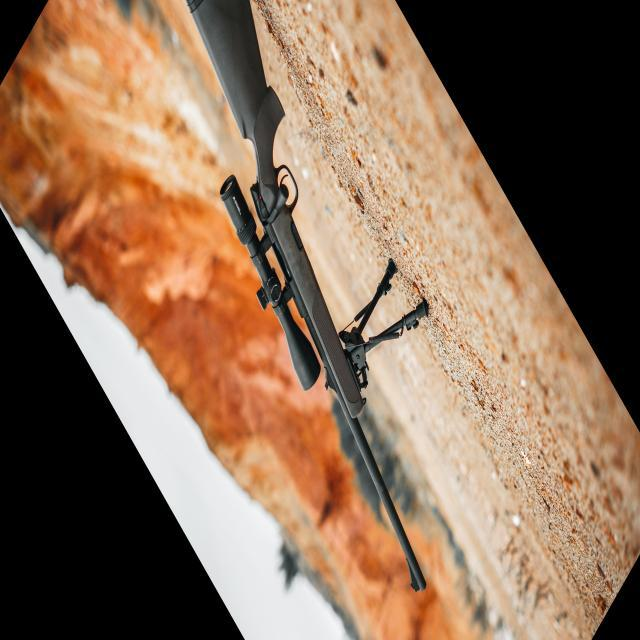weapon: (187, 1, 429, 592)
